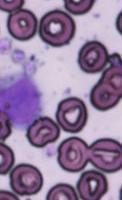L: (0, 70, 45, 128)
